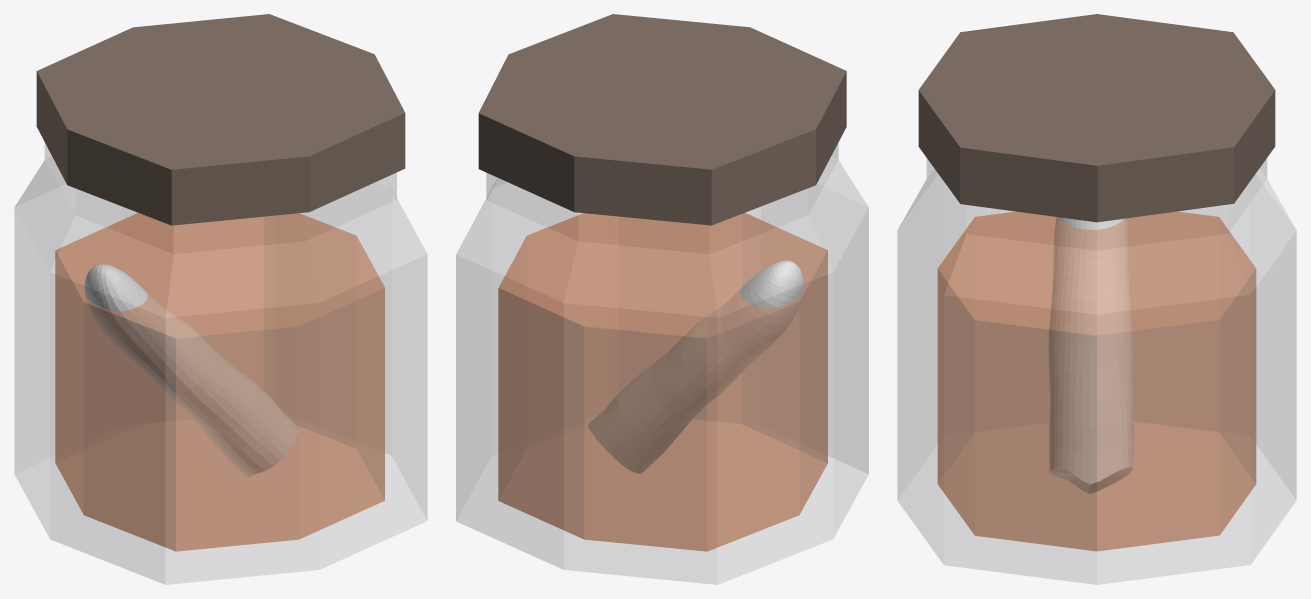
Rendered from TexturedJarWithFinger.fbx.
3 views of the same model, side by side, from view 1: azimuth 30°, elevation 25°; view 2: azimuth 150°, elevation 25°; view 3: azimuth 270°, elevation 25° (orthographic).
Parts seen in each view (by area): view 1: Jar, Juice, Finger; view 2: Jar, Juice, Finger; view 3: Jar, Juice, Finger.
Boxes of the visible parts, box(x1,y1,x2,y2) form: Jar: box(14, 14, 427, 584); Juice: box(55, 213, 384, 551); Finger: box(84, 264, 301, 477); Jar: box(456, 14, 868, 584); Juice: box(498, 213, 827, 551); Finger: box(588, 260, 803, 473); Jar: box(897, 14, 1296, 584); Juice: box(937, 211, 1256, 551); Finger: box(1049, 217, 1133, 493).
Size of the model in its own units: 13.24 by 15.03 by 13.24.
